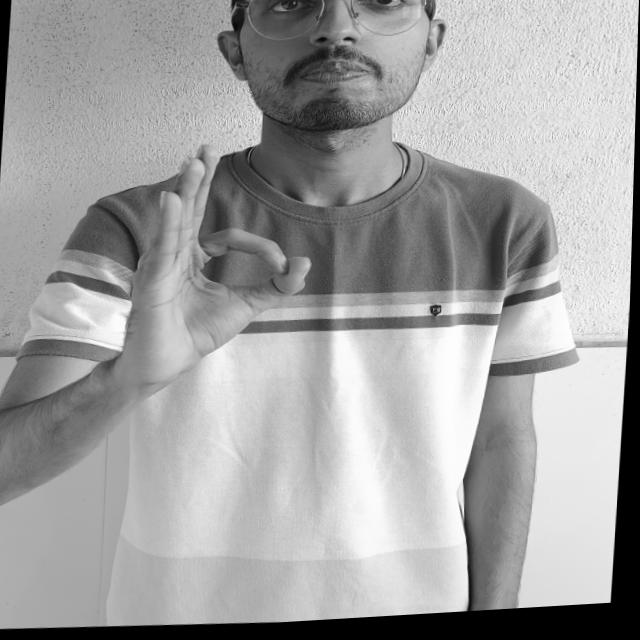Superb: (67, 127, 346, 419)
